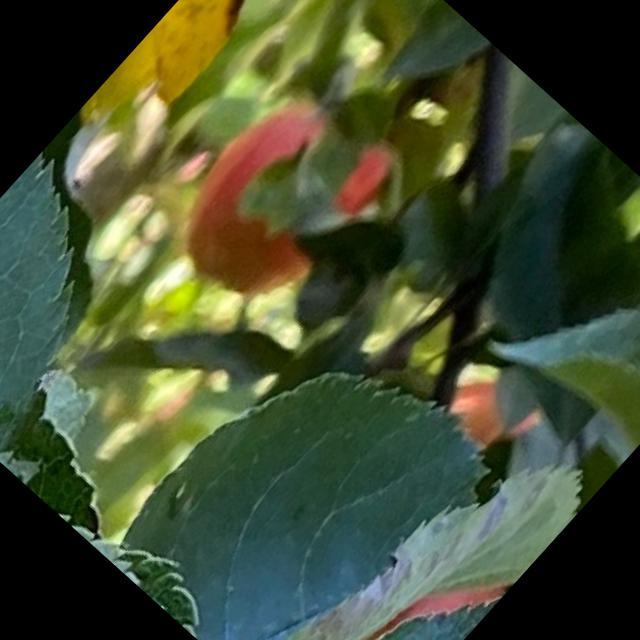Apples: (291, 359, 608, 639), (153, 73, 401, 326)
